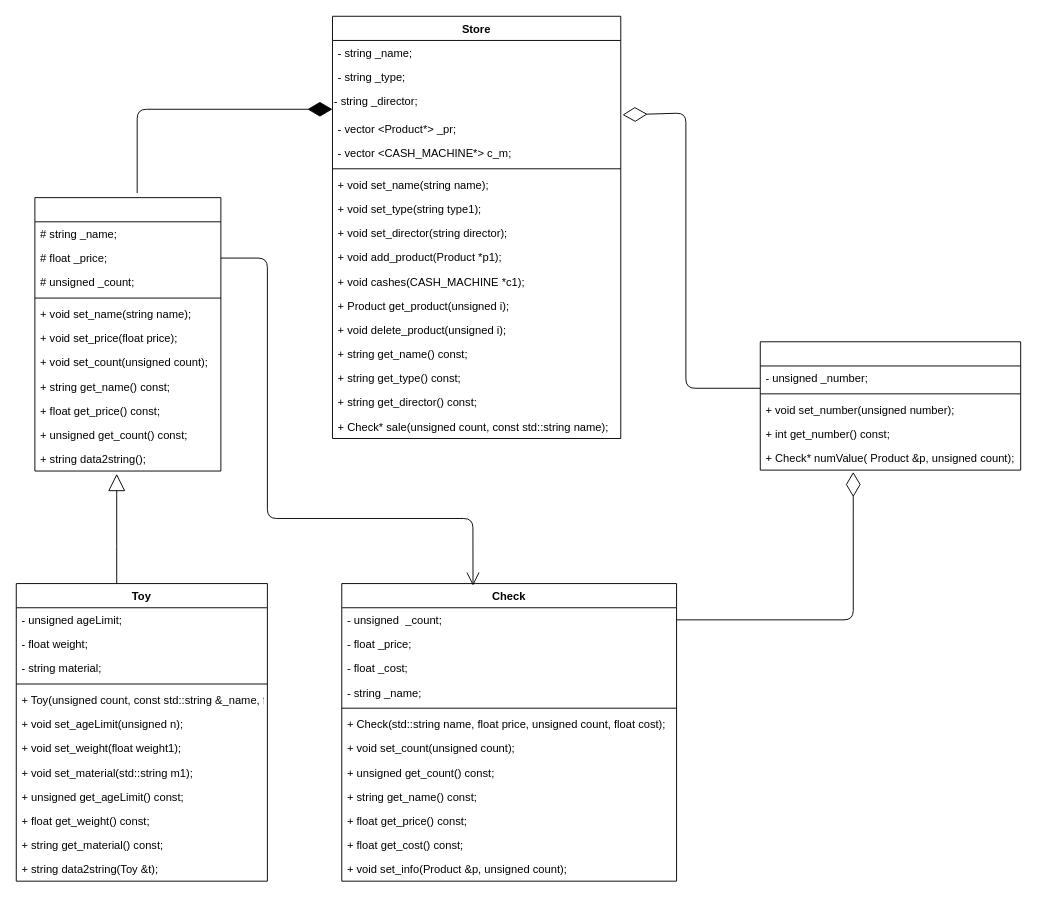
Image size: 1037x900. Some labels were removed from this diagram. Here are the shapes that lost their labels. From the top down, the box of each, then its label:
(34, 197, 221, 471): Product
(759, 341, 1021, 470): CASH_MACHINE
